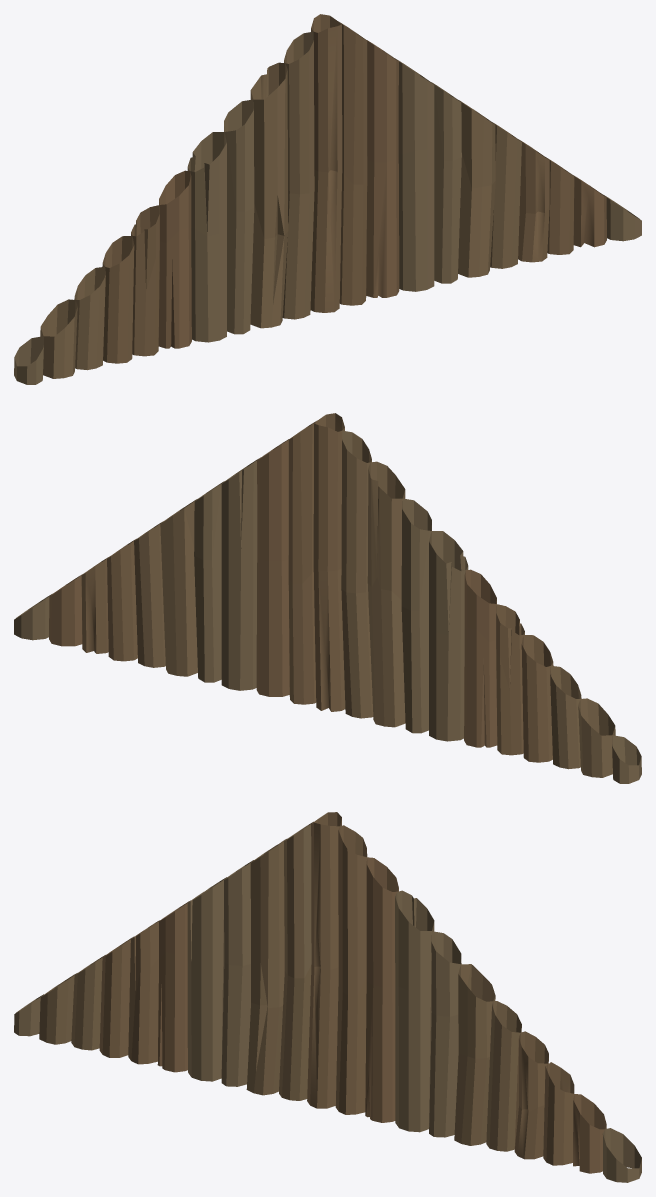
File: rpgpp_ag_roof_end_01_9x4_wall_b.fbx
The picture shows the model from 3 angles, top to bottom: view 1: azimuth 30°, elevation 25°; view 2: azimuth 150°, elevation 25°; view 3: azimuth 330°, elevation 25°; orthographic projection.
Visible parts, largest first — view 1: rpgpp_ag_roof_end_01_9x4_wall_b; view 2: rpgpp_ag_roof_end_01_9x4_wall_b; view 3: rpgpp_ag_roof_end_01_9x4_wall_b.
Boxes of the visible parts, x1,y1,x2,y2 form: rpgpp_ag_roof_end_01_9x4_wall_b: (14, 14, 641, 384); rpgpp_ag_roof_end_01_9x4_wall_b: (14, 413, 641, 783); rpgpp_ag_roof_end_01_9x4_wall_b: (14, 812, 641, 1182).
Bounding box in the file's own units: 9 × 3.93 × 0.4626.
